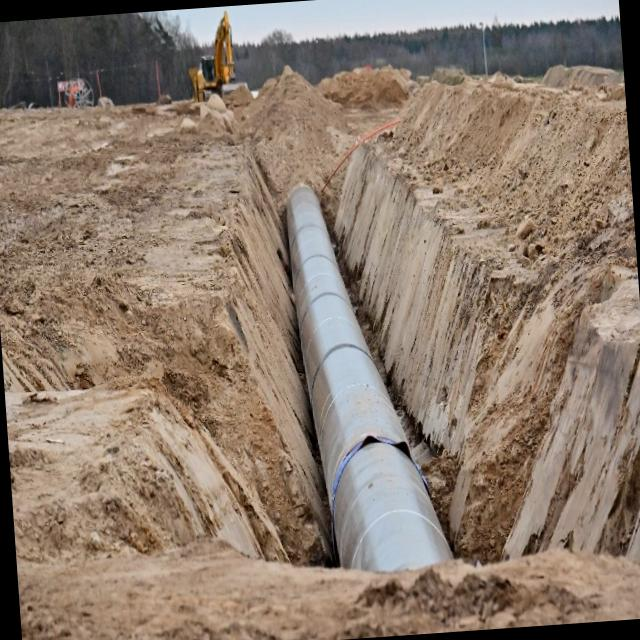gas: (284, 184, 447, 562)
